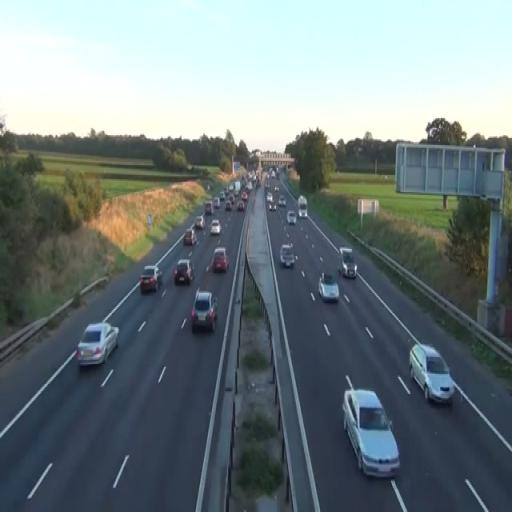Car: (342, 377, 400, 478), (409, 343, 454, 405), (76, 320, 120, 368), (190, 290, 218, 334), (318, 272, 340, 303), (140, 264, 162, 294), (338, 247, 357, 279), (173, 258, 195, 285), (211, 247, 230, 274), (280, 243, 294, 269), (210, 218, 221, 236)
